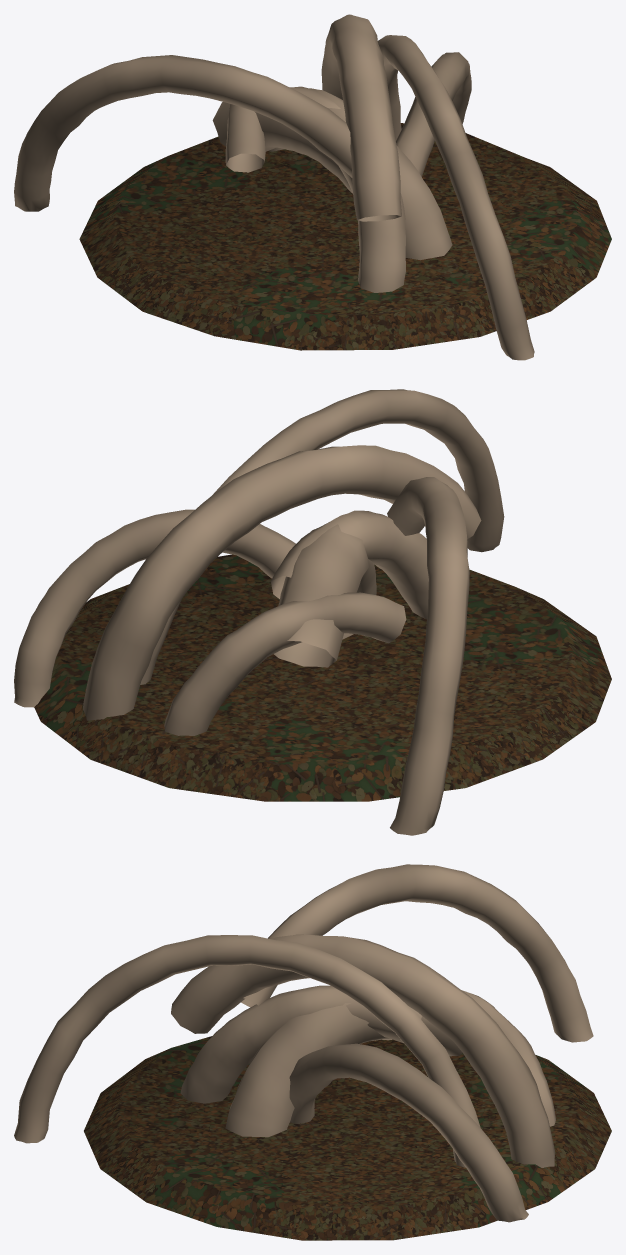
The model's file is exposed-roots-v01.glb.
The picture shows the model from 3 angles, top to bottom: view 1: azimuth 30°, elevation 25°; view 2: azimuth 150°, elevation 25°; view 3: azimuth 270°, elevation 25°; orthographic projection. The views are drawn at different scales.
Parts seen in each view (by area): view 1: exposed-roots; view 2: exposed-roots; view 3: exposed-roots.
Boxes of the visible parts, x1,y1,x2,y2 form: exposed-roots: (14,14,611,360); exposed-roots: (14,389,611,835); exposed-roots: (14,864,611,1240).
Bounding box in the file's own units: 2.37 × 1.04 × 2.73.
2 materials, 1 textured.
